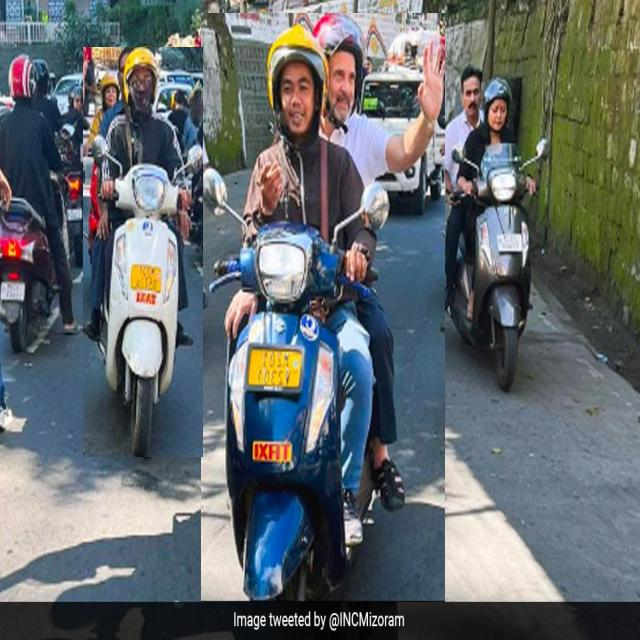motorcycle: (201, 14, 445, 602), (84, 47, 203, 457), (438, 65, 549, 390), (0, 55, 82, 351)
